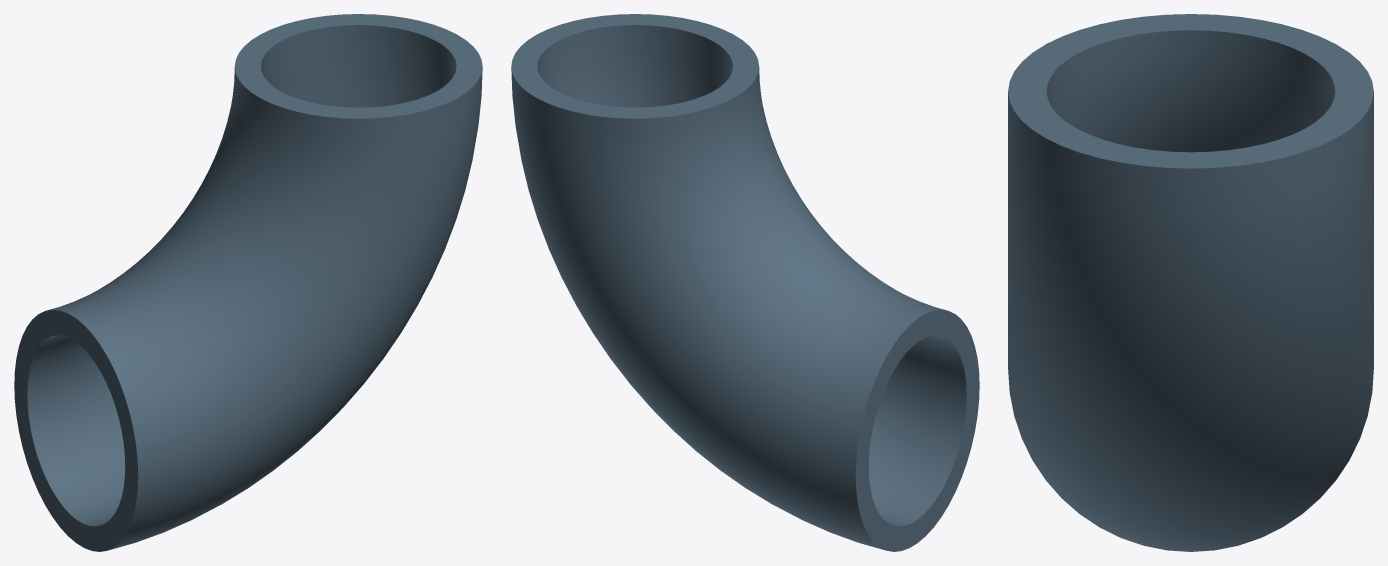
The model's file is otvod-90-57x6-R75.glb.
3 views of the same model, side by side, from view 1: azimuth 30°, elevation 25°; view 2: azimuth 150°, elevation 25°; view 3: azimuth 270°, elevation 25° (orthographic). The views are drawn at different scales.
Parts seen in each view (by area): view 1: Open CASCADE STEP translator 7.9 17; view 2: Open CASCADE STEP translator 7.9 17; view 3: Open CASCADE STEP translator 7.9 17.
Part boxes in pixels (<box>): Open CASCADE STEP translator 7.9 17: <box>14,14,482,551</box>; Open CASCADE STEP translator 7.9 17: <box>511,14,979,551</box>; Open CASCADE STEP translator 7.9 17: <box>1008,14,1373,551</box>.
Bounding box in the file's own units: 104 × 104 × 57.
